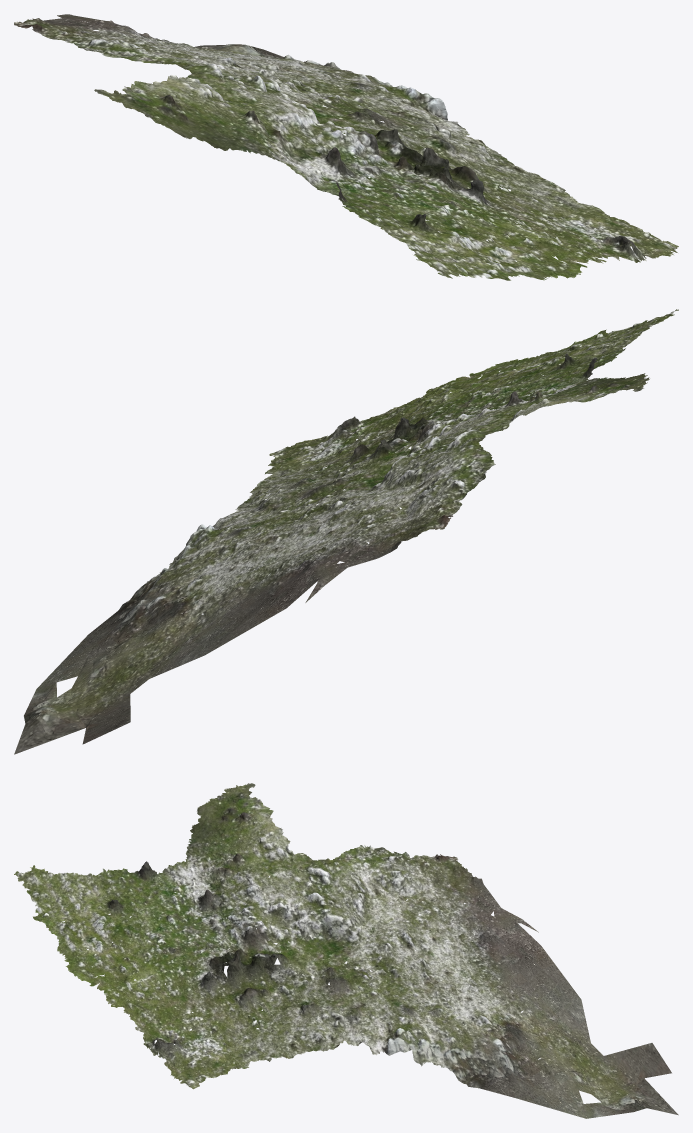
3 views of the same model, one above another, from view 1: azimuth 30°, elevation 25°; view 2: azimuth 150°, elevation 25°; view 3: azimuth 270°, elevation 25° (orthographic). The views are drawn at different scales.
Bounding box in the file's own units: 35.49 × 20.81 × 63.73.
Materials: 1 (1 with a texture image).
